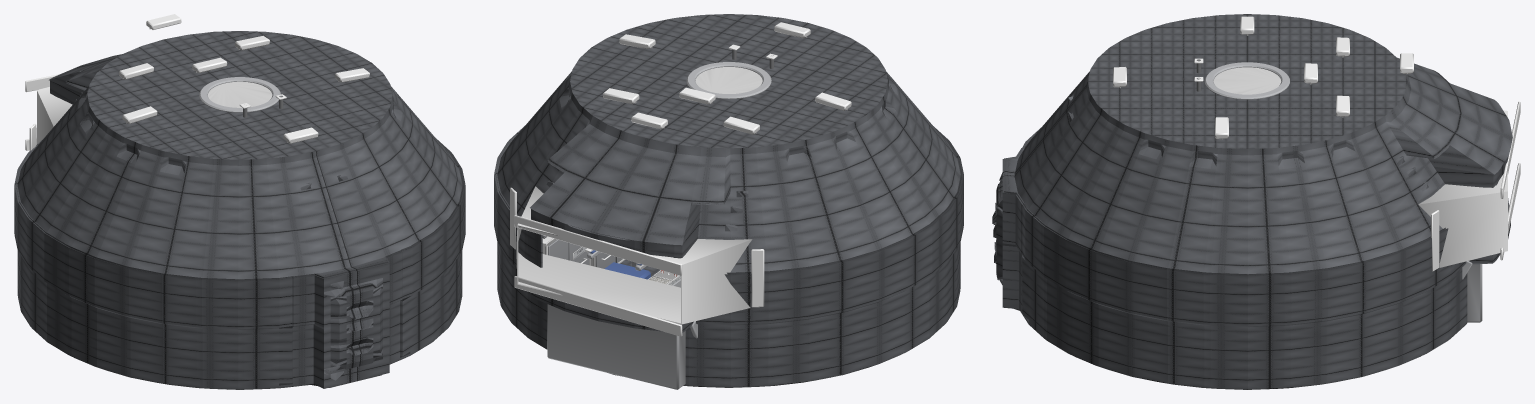
The model's file is Lander3vInterior.fbx.
The picture shows the model from 3 angles, left to right: view 1: azimuth 30°, elevation 25°; view 2: azimuth 150°, elevation 25°; view 3: azimuth 270°, elevation 25°; orthographic projection. The views are drawn at different scales.
Visible parts, largest first — view 1: Mesh_WallPadded, Mesh_FrameDark.001, Mesh_HatchDetail, Mesh_Frame.001; view 2: Mesh_WallPadded, Mesh_FrameDark.001, Mesh_Frame.001, Mesh_HatchDetail, Mesh_GreyLockerDetail, Mesh_SeatBlue; view 3: Mesh_WallPadded, Mesh_FrameDark.001, Mesh_Frame.001, Mesh_HatchDetail.
Boxes of the visible parts, x1=… form: Mesh_WallPadded: x1=14, y1=31, x2=465, y2=389; Mesh_FrameDark.001: x1=25, y1=14, x2=369, y2=150; Mesh_HatchDetail: x1=208, y1=81, x2=272, y2=107; Mesh_Frame.001: x1=199, y1=77, x2=283, y2=117; Mesh_WallPadded: x1=494, y1=14, x2=963, y2=387; Mesh_FrameDark.001: x1=510, y1=22, x2=851, y2=336; Mesh_Frame.001: x1=547, y1=49, x2=773, y2=389; Mesh_HatchDetail: x1=695, y1=67, x2=762, y2=93; Mesh_GreyLockerDetail: x1=548, y1=239, x2=622, y2=268; Mesh_SeatBlue: x1=589, y1=250, x2=650, y2=279; Mesh_WallPadded: x1=992, y1=14, x2=1512, y2=389; Mesh_FrameDark.001: x1=1113, y1=16, x2=1520, y2=271; Mesh_Frame.001: x1=1196, y1=59, x2=1482, y2=322; Mesh_HatchDetail: x1=1213, y1=67, x2=1281, y2=94.
Size of the model in its own units: 3.7 by 2.01 by 4.14.
